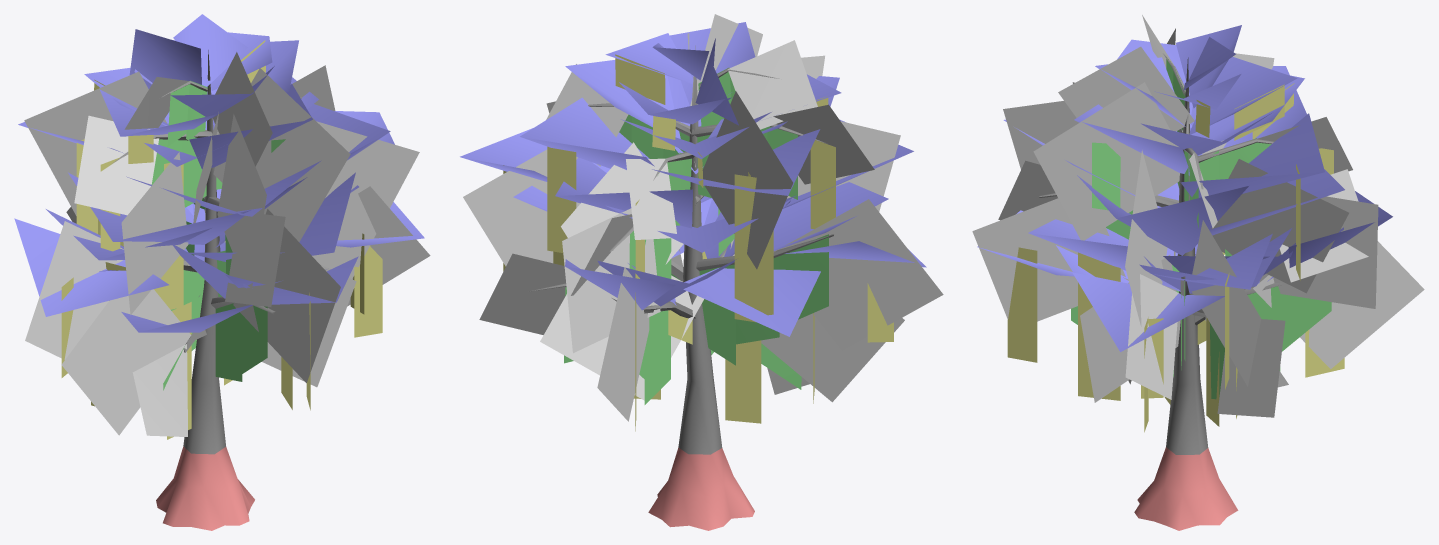
File: Primitive_INtree001.gltf
The picture shows the model from 3 angles, left to right: view 1: azimuth 30°, elevation 25°; view 2: azimuth 150°, elevation 25°; view 3: azimuth 270°, elevation 25°; orthographic projection. The views are drawn at different scales.
Visible parts, largest first — view 1: Primitive_INtree001; view 2: Primitive_INtree001; view 3: Primitive_INtree001.
Boxes of the visible parts, x1,y1,x2,y2 form: Primitive_INtree001: (14, 14, 430, 530); Primitive_INtree001: (460, 14, 943, 530); Primitive_INtree001: (972, 15, 1424, 530).
Size of the model in its own units: 7.64 by 8.25 by 7.26.
